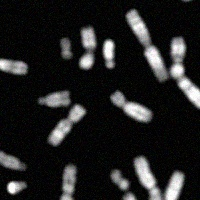chromosome: (126, 9, 167, 81), (48, 103, 86, 146), (110, 90, 152, 123), (134, 155, 162, 200), (177, 77, 200, 120), (155, 170, 184, 200), (80, 27, 96, 70), (170, 37, 186, 78), (38, 90, 70, 108), (61, 164, 76, 200), (0, 151, 27, 171), (0, 57, 27, 76), (109, 168, 129, 190), (103, 39, 116, 68), (7, 180, 27, 195), (59, 38, 72, 59), (176, 191, 200, 200), (123, 192, 140, 200), (180, 0, 200, 2)
